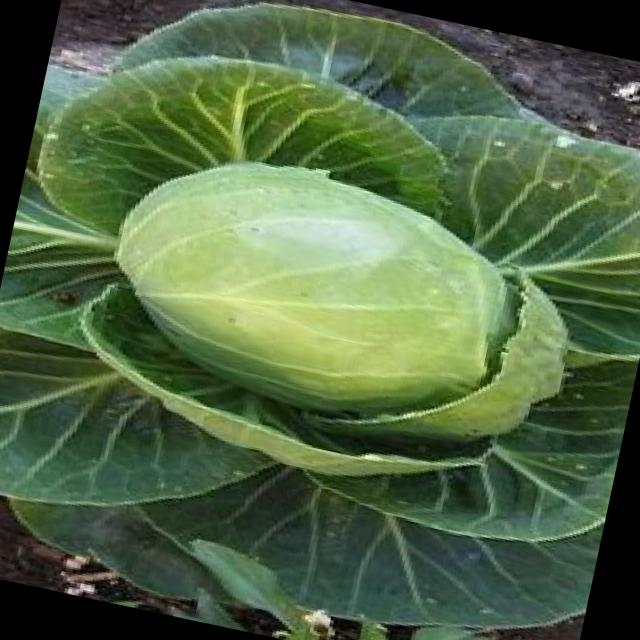cabbage: (90, 134, 530, 440)
